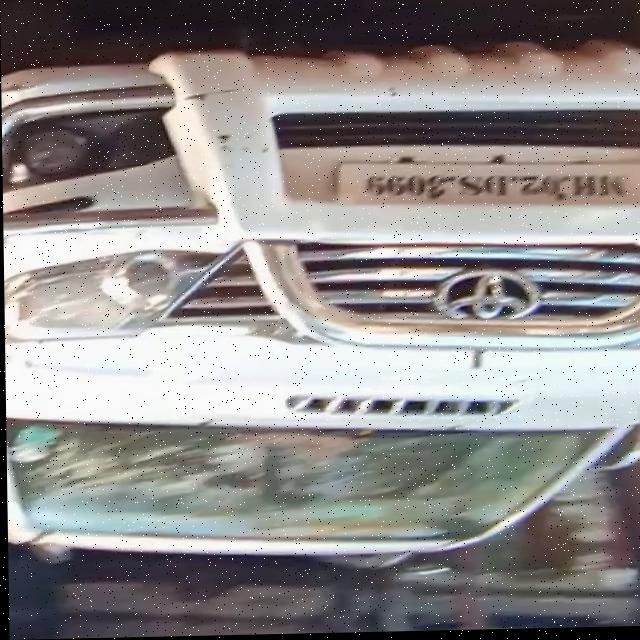plate: (327, 153, 639, 215)
